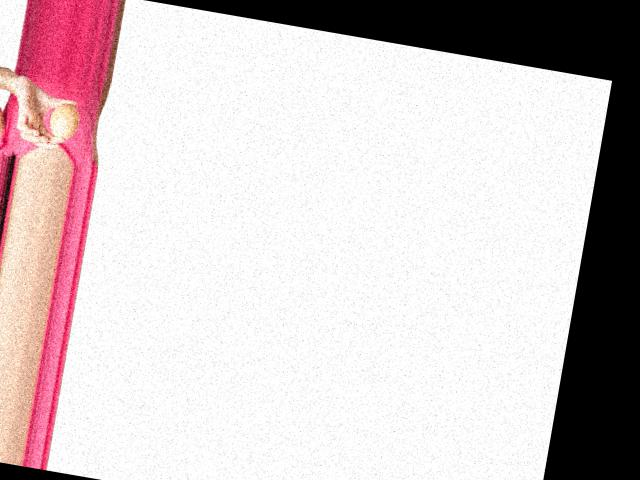egg: (47, 101, 81, 141)
